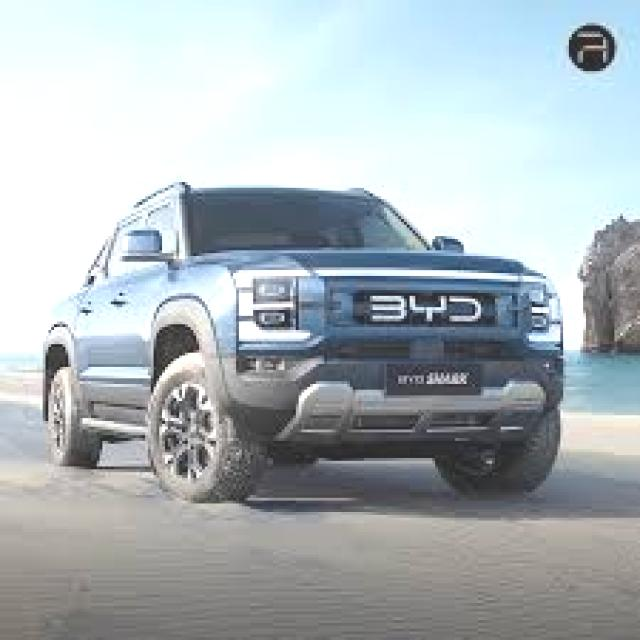CMT: (32, 182, 562, 499)
